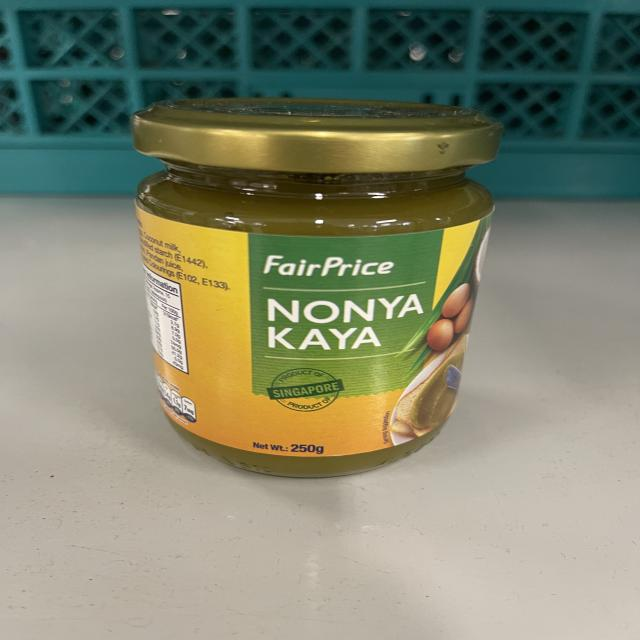object_name: (140, 108, 470, 464)
